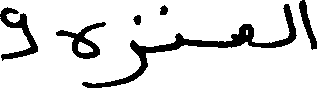9: (0, 5, 36, 61)
ا: (296, 0, 315, 50)
ز: (109, 13, 147, 86)
ل: (283, 1, 295, 46)
م: (233, 21, 253, 47)
ن: (157, 4, 184, 50)
ه: (55, 20, 107, 62)
